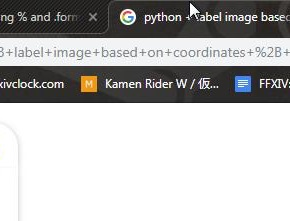cursor: (189, 1, 201, 20)
